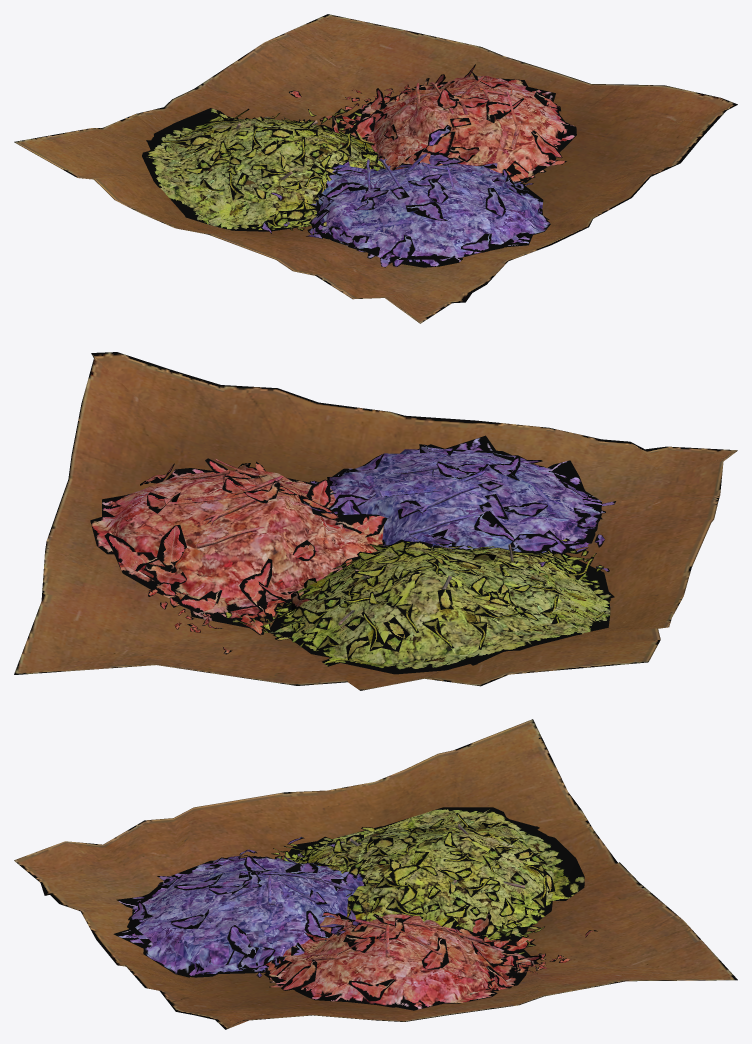
File: 009_RedGreenBlue_Herb.fbx
The picture shows the model from 3 angles, top to bottom: view 1: azimuth 30°, elevation 25°; view 2: azimuth 150°, elevation 25°; view 3: azimuth 270°, elevation 25°; orthographic projection. The views are drawn at different scales.
Visible parts, largest first — view 1: LOD_1_Group_0_Sub_1__sm70_004_HerbsGG01A_Mat__Env_AlphaTest, LOD_1_Group_2_Sub_1__sm70_004_HerbsGG01A_Mat__Env_AlphaTest, LOD_1_Group_5_Sub_1__sm70_006_HerbsGB01A_B_Mat__Env_AlphaTes, LOD_1_Group_1_Sub_1__sm70_004_HerbsGG01A_Mat__Env_AlphaTest, LOD_1_Group_3_Sub_1__sm70_004_HerbsGG01A_mt, LOD_1_Group_4_Sub_1__sm70_006_HerbsGB01A_B_Mat__Env_AlphaTes; view 2: LOD_1_Group_0_Sub_1__sm70_004_HerbsGG01A_Mat__Env_AlphaTest, LOD_1_Group_2_Sub_1__sm70_004_HerbsGG01A_Mat__Env_AlphaTest, LOD_1_Group_1_Sub_1__sm70_004_HerbsGG01A_Mat__Env_AlphaTest, LOD_1_Group_5_Sub_1__sm70_006_HerbsGB01A_B_Mat__Env_AlphaTes, LOD_1_Group_3_Sub_1__sm70_004_HerbsGG01A_mt, LOD_1_Group_4_Sub_1__sm70_006_HerbsGB01A_B_Mat__Env_AlphaTes; view 3: LOD_1_Group_0_Sub_1__sm70_004_HerbsGG01A_Mat__Env_AlphaTest, LOD_1_Group_2_Sub_1__sm70_004_HerbsGG01A_Mat__Env_AlphaTest, LOD_1_Group_5_Sub_1__sm70_006_HerbsGB01A_B_Mat__Env_AlphaTes, LOD_1_Group_1_Sub_1__sm70_004_HerbsGG01A_Mat__Env_AlphaTest, LOD_1_Group_3_Sub_1__sm70_004_HerbsGG01A_mt, LOD_1_Group_4_Sub_1__sm70_006_HerbsGB01A_B_Mat__Env_AlphaTes.
Part boxes in pixels (x1,y1,x2,y2): LOD_1_Group_0_Sub_1__sm70_004_HerbsGG01A_Mat__Env_AlphaTest: [14, 14, 737, 323]; LOD_1_Group_2_Sub_1__sm70_004_HerbsGG01A_Mat__Env_AlphaTest: [142, 108, 429, 231]; LOD_1_Group_5_Sub_1__sm70_006_HerbsGB01A_B_Mat__Env_AlphaTes: [261, 124, 550, 267]; LOD_1_Group_1_Sub_1__sm70_004_HerbsGG01A_Mat__Env_AlphaTest: [289, 64, 576, 183]; LOD_1_Group_3_Sub_1__sm70_004_HerbsGG01A_mt: [416, 76, 521, 149]; LOD_1_Group_4_Sub_1__sm70_006_HerbsGB01A_B_Mat__Env_AlphaTes: [366, 153, 455, 192]; LOD_1_Group_0_Sub_1__sm70_004_HerbsGG01A_Mat__Env_AlphaTest: [14, 352, 737, 690]; LOD_1_Group_2_Sub_1__sm70_004_HerbsGG01A_Mat__Env_AlphaTest: [224, 536, 614, 674]; LOD_1_Group_1_Sub_1__sm70_004_HerbsGG01A_Mat__Env_AlphaTest: [90, 458, 388, 654]; LOD_1_Group_5_Sub_1__sm70_006_HerbsGB01A_B_Mat__Env_AlphaTes: [298, 435, 615, 571]; LOD_1_Group_3_Sub_1__sm70_004_HerbsGG01A_mt: [164, 459, 283, 548]; LOD_1_Group_4_Sub_1__sm70_006_HerbsGB01A_B_Mat__Env_AlphaTes: [379, 456, 492, 535]; LOD_1_Group_0_Sub_1__sm70_004_HerbsGG01A_Mat__Env_AlphaTest: [14, 719, 737, 1029]; LOD_1_Group_2_Sub_1__sm70_004_HerbsGG01A_Mat__Env_AlphaTest: [271, 807, 584, 954]; LOD_1_Group_5_Sub_1__sm70_006_HerbsGB01A_B_Mat__Env_AlphaTes: [113, 837, 366, 977]; LOD_1_Group_1_Sub_1__sm70_004_HerbsGG01A_Mat__Env_AlphaTest: [264, 911, 597, 1010]; LOD_1_Group_3_Sub_1__sm70_004_HerbsGG01A_mt: [308, 919, 483, 960]; LOD_1_Group_4_Sub_1__sm70_006_HerbsGB01A_B_Mat__Env_AlphaTes: [227, 871, 354, 905].
Bounding box in the file's own units: 0.2897 × 0.0336 × 0.2866.
